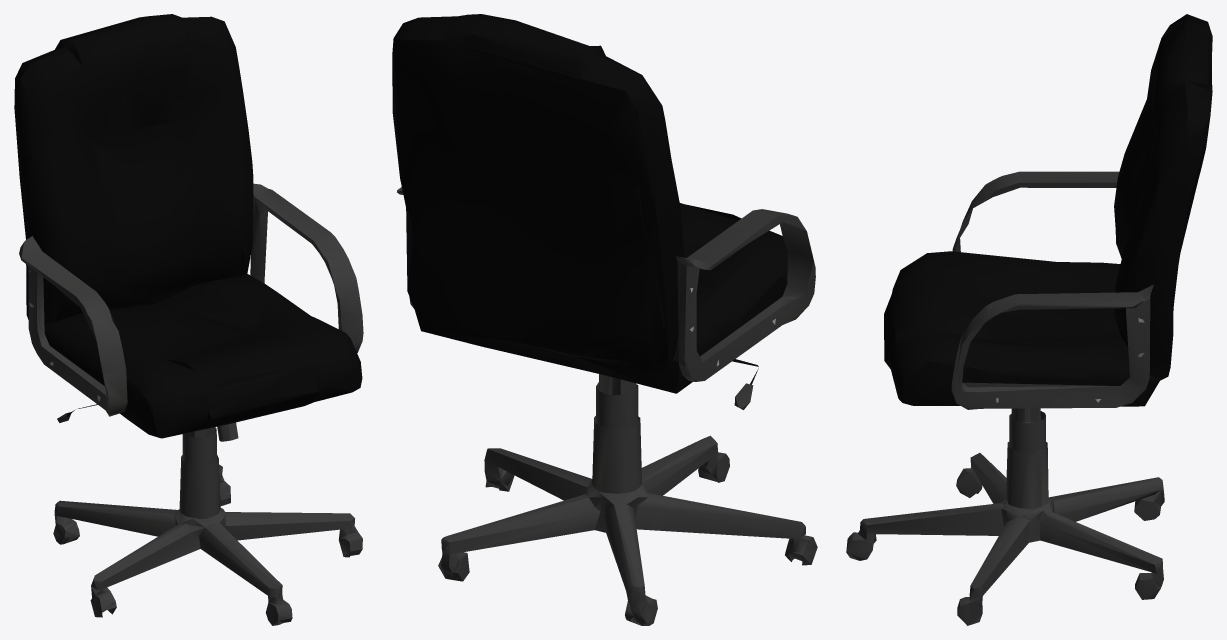
The model's file is simready-office-chair-manager.lite.1799c74c.glb.
The picture shows the model from 3 angles, left to right: view 1: azimuth 30°, elevation 25°; view 2: azimuth 150°, elevation 25°; view 3: azimuth 270°, elevation 25°; orthographic projection. The views are drawn at different scales.
Parts seen in each view (by area): view 1: model; view 2: model; view 3: model.
Part boxes in pixels (x1,y1,x2,y2): model: [14, 14, 363, 625]; model: [392, 14, 817, 625]; model: [846, 14, 1212, 625].
Bounding box in the file's own units: 0.6176 × 1.09 × 0.7045.
Materials: 5 (3 with a texture image).
